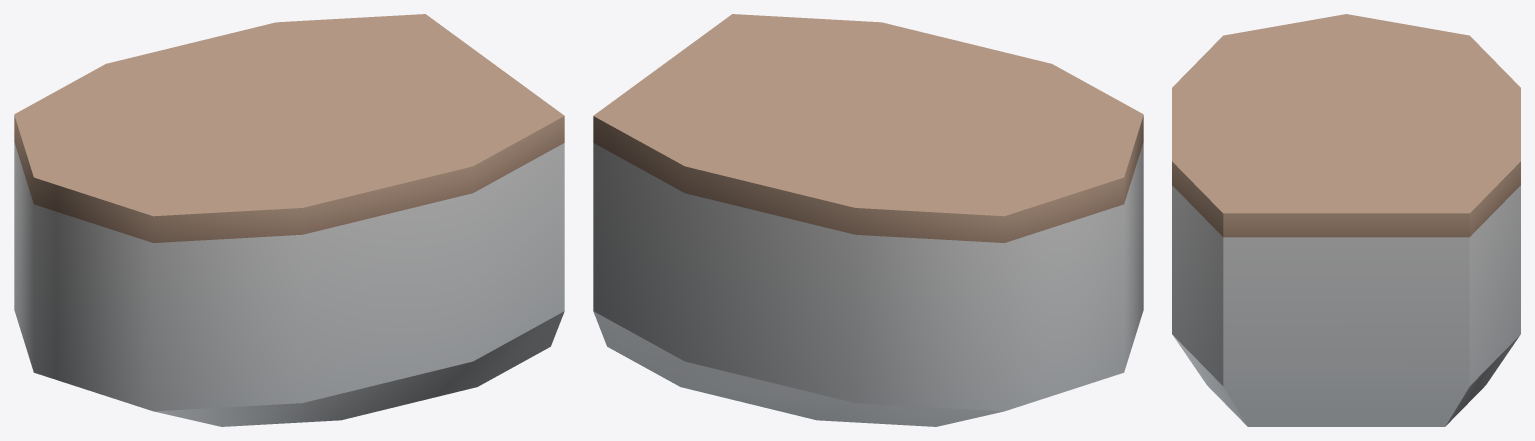
File: toilet-floating (%wall).glb
3 views of the same model, side by side, from view 1: azimuth 30°, elevation 25°; view 2: azimuth 150°, elevation 25°; view 3: azimuth 270°, elevation 25° (orthographic). The views are drawn at different scales.
Visible parts, largest first — view 1: toilet-floating (%wall); view 2: toilet-floating (%wall); view 3: toilet-floating (%wall).
Boxes of the visible parts, left/top/right/bottom form: toilet-floating (%wall): left=14, top=14, right=564, bottom=426; toilet-floating (%wall): left=593, top=14, right=1143, bottom=426; toilet-floating (%wall): left=1172, top=14, right=1520, bottom=426.
Size of the model in its own units: 0.5123 by 0.2557 by 0.3785.
